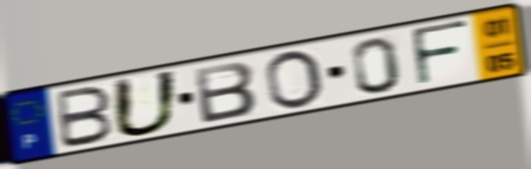0: (349, 34, 404, 96)
B: (191, 59, 260, 126), (54, 84, 116, 152)
F: (407, 18, 471, 89)
O: (263, 48, 327, 113)
U: (110, 67, 182, 139)
